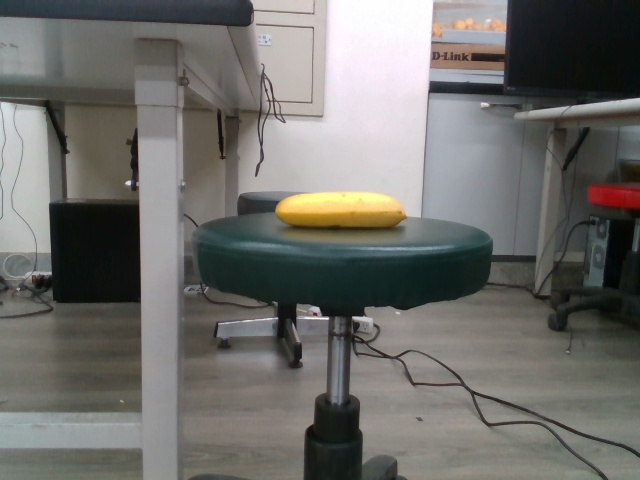banana: (271, 186, 411, 234)
